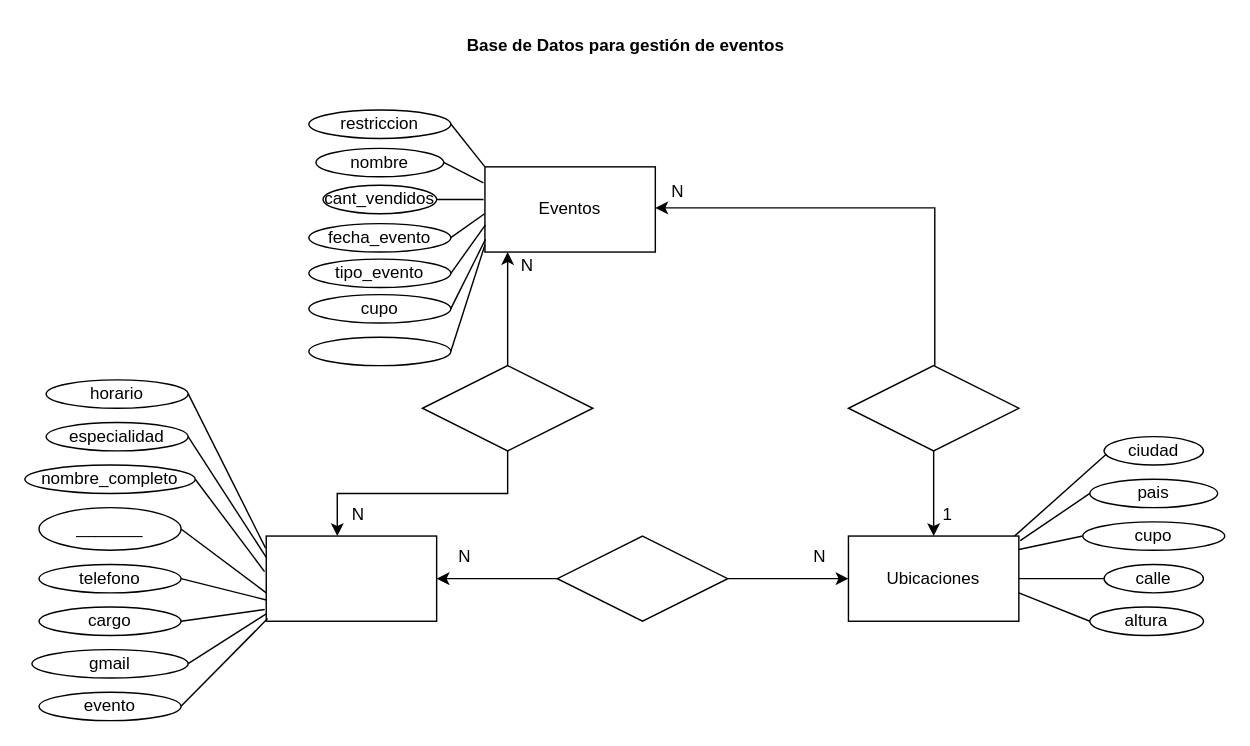
Image size: 1250x746. Some labels were removed from this diagram. Here are the shapes that lost their labels. From the top down, the box of each, then its label:
(307, 336, 451, 366): ubicacion
(421, 364, 593, 451): asisten
(847, 364, 1019, 451): ocurre
(38, 506, 181, 550): dni
(265, 535, 437, 621): Asistentes
(556, 535, 728, 621): concurren
